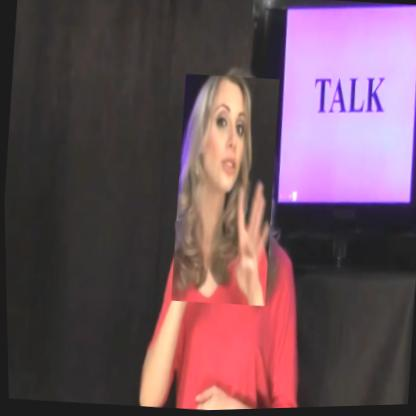Talk: (166, 73, 283, 310)
